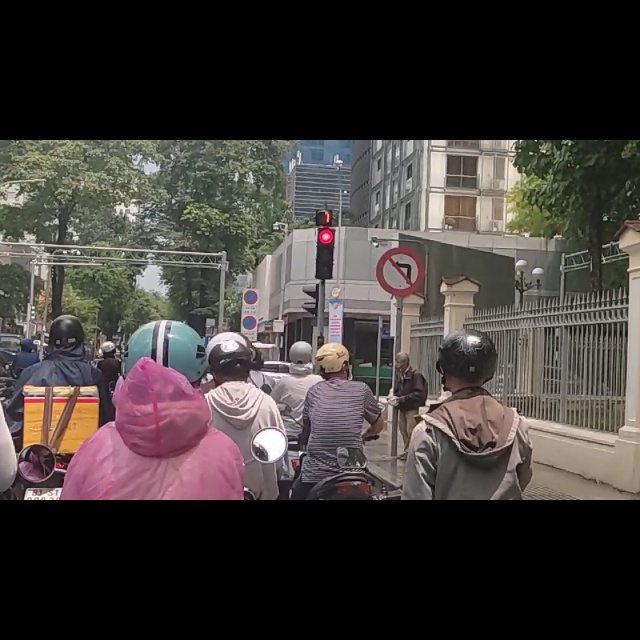bien_cam: (373, 188, 427, 275), (243, 267, 258, 294), (243, 313, 258, 340)
